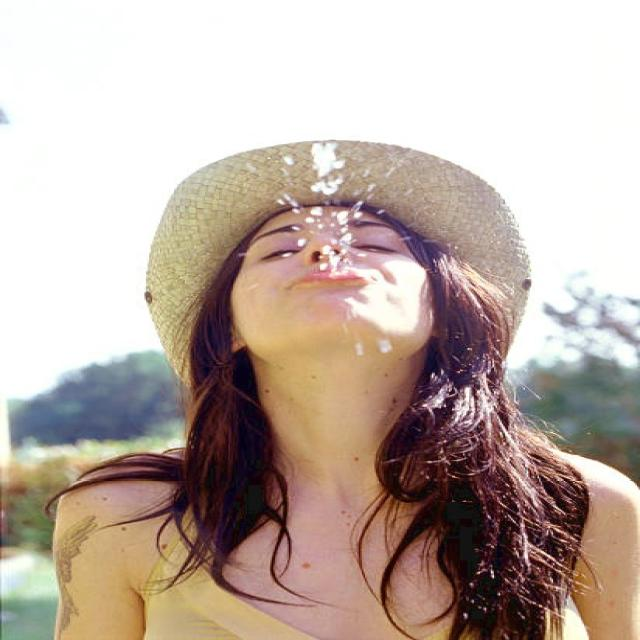Spitting: (152, 138, 540, 510)
